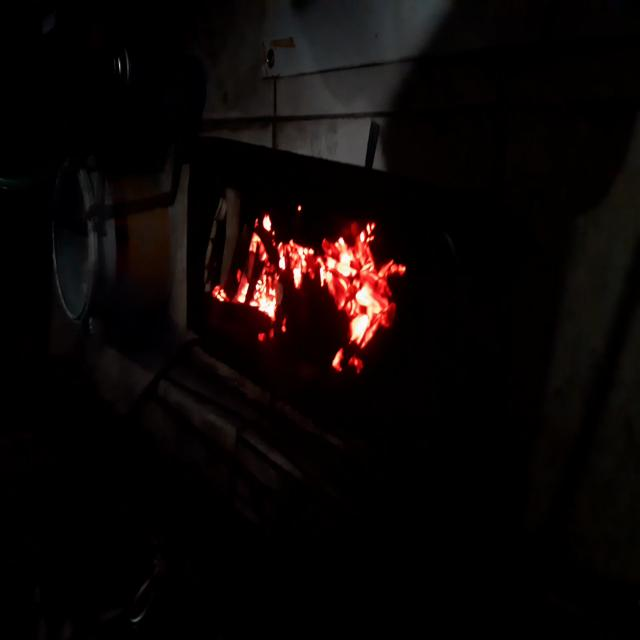Fire: (221, 165, 412, 422)
